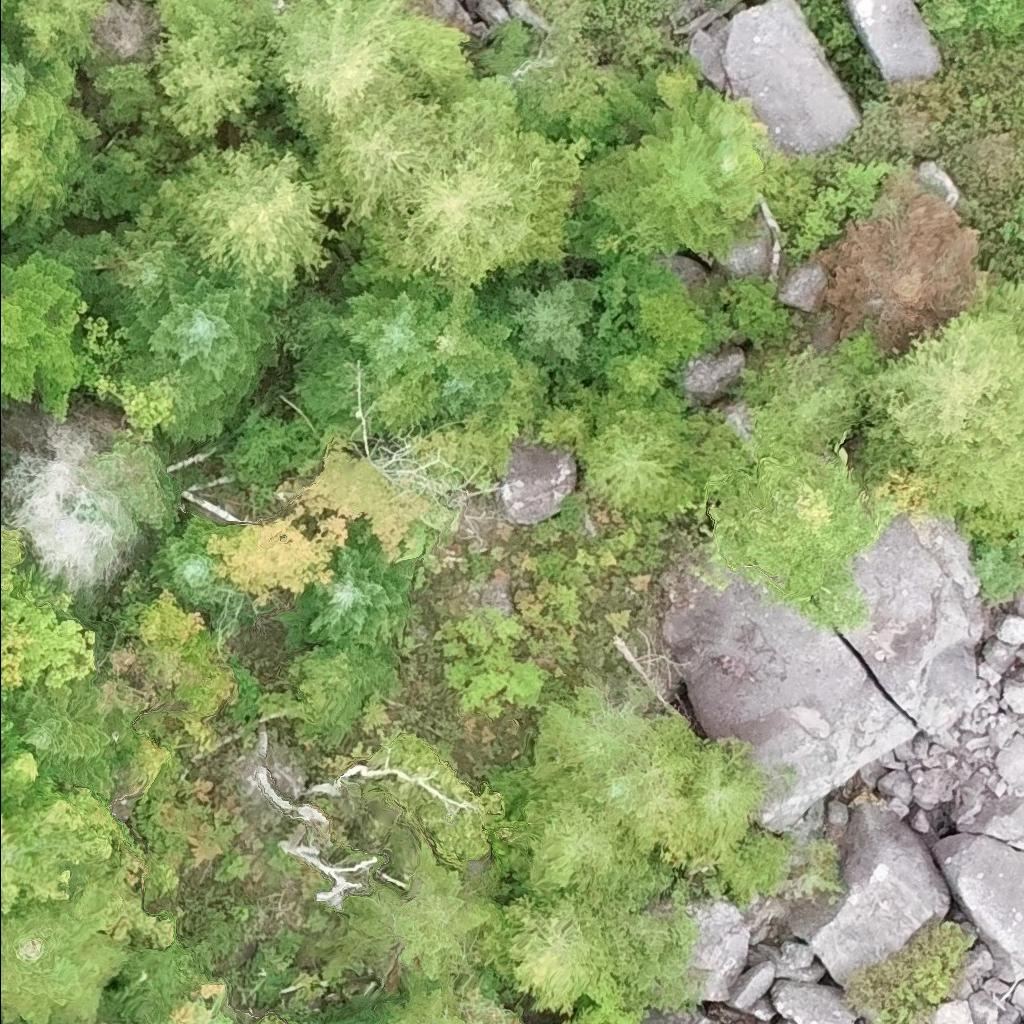crown: (343, 129, 590, 297), (859, 280, 1023, 519), (134, 131, 345, 311), (708, 445, 882, 629), (576, 82, 752, 261), (819, 172, 982, 359), (116, 263, 279, 443), (0, 414, 147, 598), (264, 0, 432, 156), (493, 773, 656, 913), (308, 93, 456, 229), (276, 517, 416, 655), (0, 747, 113, 914), (282, 437, 428, 563), (0, 882, 127, 1023), (291, 280, 449, 385), (9, 675, 137, 803), (0, 245, 87, 423), (575, 386, 695, 512), (499, 888, 618, 1015), (351, 374, 472, 497), (745, 344, 863, 468), (0, 565, 102, 708), (207, 504, 349, 606), (154, 25, 264, 151), (391, 846, 493, 981), (0, 108, 98, 240), (143, 0, 278, 89), (622, 732, 707, 863), (531, 686, 643, 785), (501, 265, 603, 369), (113, 587, 215, 685), (91, 217, 192, 314), (87, 434, 181, 535), (145, 515, 238, 611), (431, 289, 529, 378), (0, 27, 76, 137), (1, 0, 109, 70), (685, 743, 762, 840), (393, 18, 473, 106), (92, 372, 175, 443), (379, 968, 463, 1023), (430, 371, 509, 420), (711, 134, 762, 201), (705, 91, 755, 150), (167, 980, 234, 1023), (0, 524, 25, 590), (0, 0, 19, 27)
